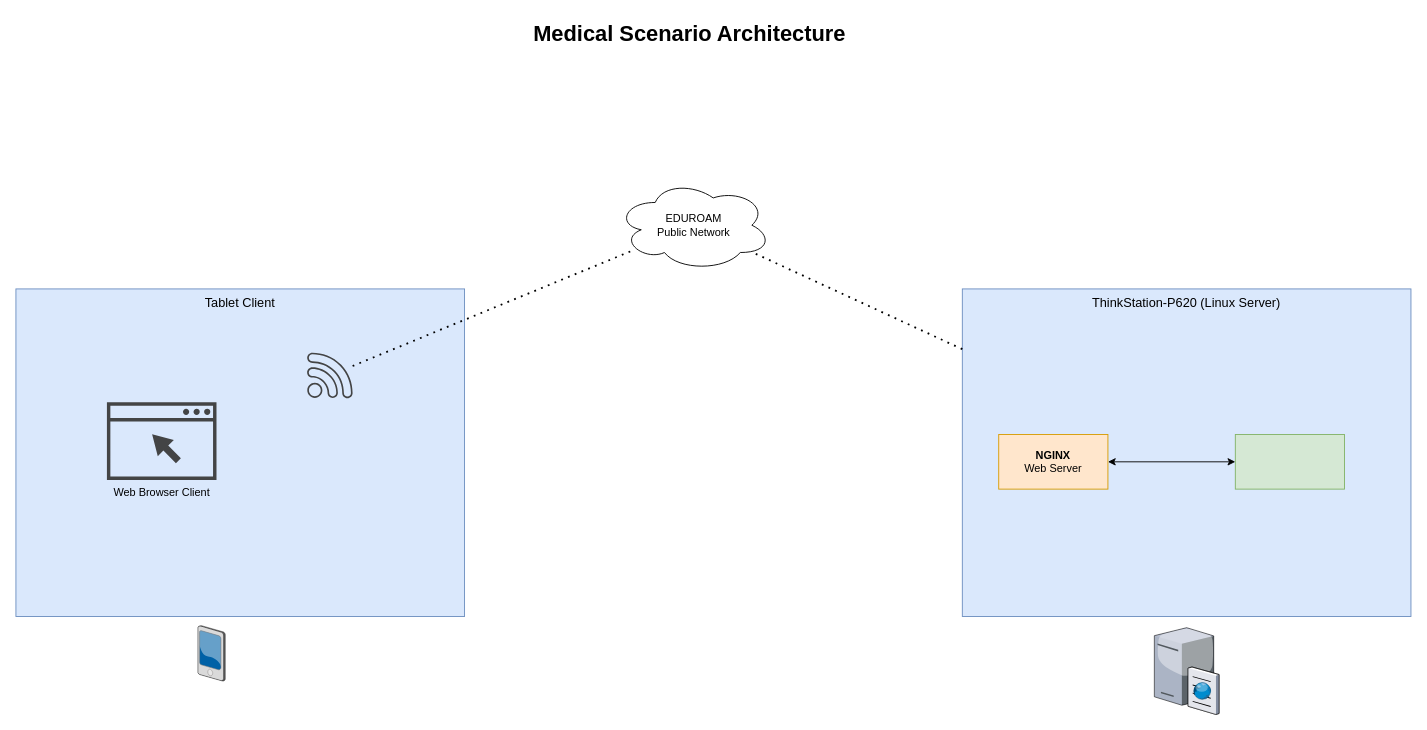
The diagram is 1427 pixels wide and 730 high, and some of its shapes have lost their labels. The centre of each missing label's shape, as x and y in pixels:
"Medical Scenario Angular Application" goes at [1289,461].
"Wi-Fi" goes at [329,375].
